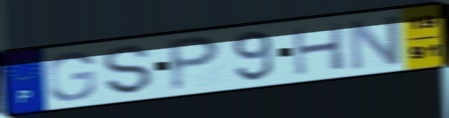9: (230, 30, 275, 83)
G: (45, 50, 99, 103)
H: (289, 20, 348, 78)
N: (346, 12, 404, 74)
P: (165, 33, 225, 94)
S: (101, 43, 156, 96)
